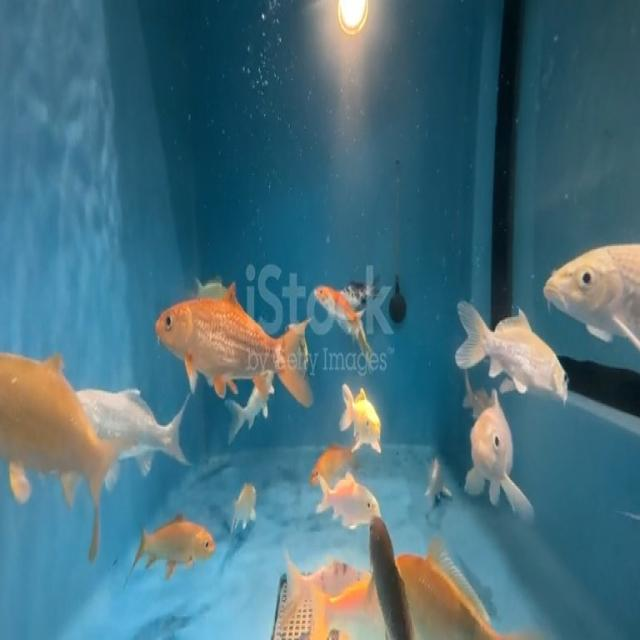fish: (0, 336, 123, 566), (152, 279, 315, 398), (456, 286, 570, 409), (537, 218, 640, 348), (400, 538, 522, 640), (85, 379, 201, 463), (466, 383, 530, 517), (361, 509, 419, 640), (125, 508, 219, 578), (320, 465, 387, 547), (304, 570, 371, 640), (276, 550, 350, 607), (316, 274, 366, 352), (335, 381, 386, 456), (229, 479, 262, 535), (422, 444, 443, 512)
